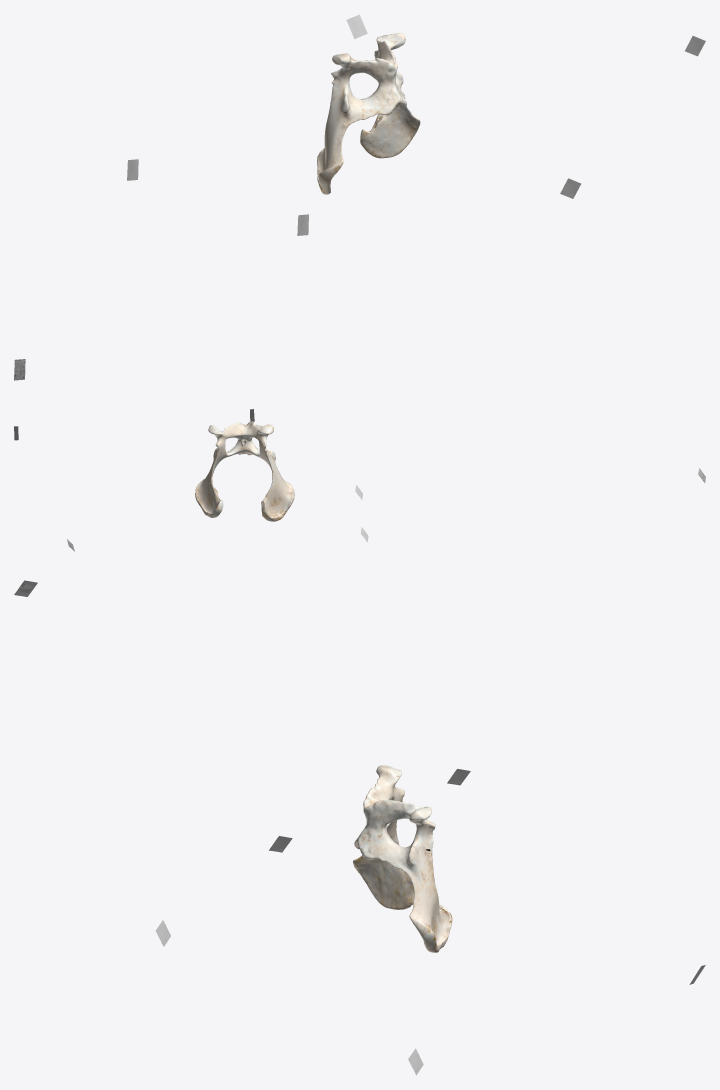
Rendered from S2_sacrum-space-3.glb.
The picture shows the model from 3 angles, top to bottom: view 1: azimuth 30°, elevation 25°; view 2: azimuth 150°, elevation 25°; view 3: azimuth 270°, elevation 25°; orthographic projection. The views are drawn at different scales.
Visible parts, largest first — view 1: sacrum-bon; view 2: sacrum-bon; view 3: sacrum-bon.
Boxes of the visible parts, bbox=[...] form: sacrum-bon: bbox=[317, 33, 420, 194]; sacrum-bon: bbox=[195, 421, 294, 521]; sacrum-bon: bbox=[353, 765, 452, 952].
Bounding box in the file's own units: 32.04 × 4.83 × 20.2.
Materials: 4 (2 with a texture image).
